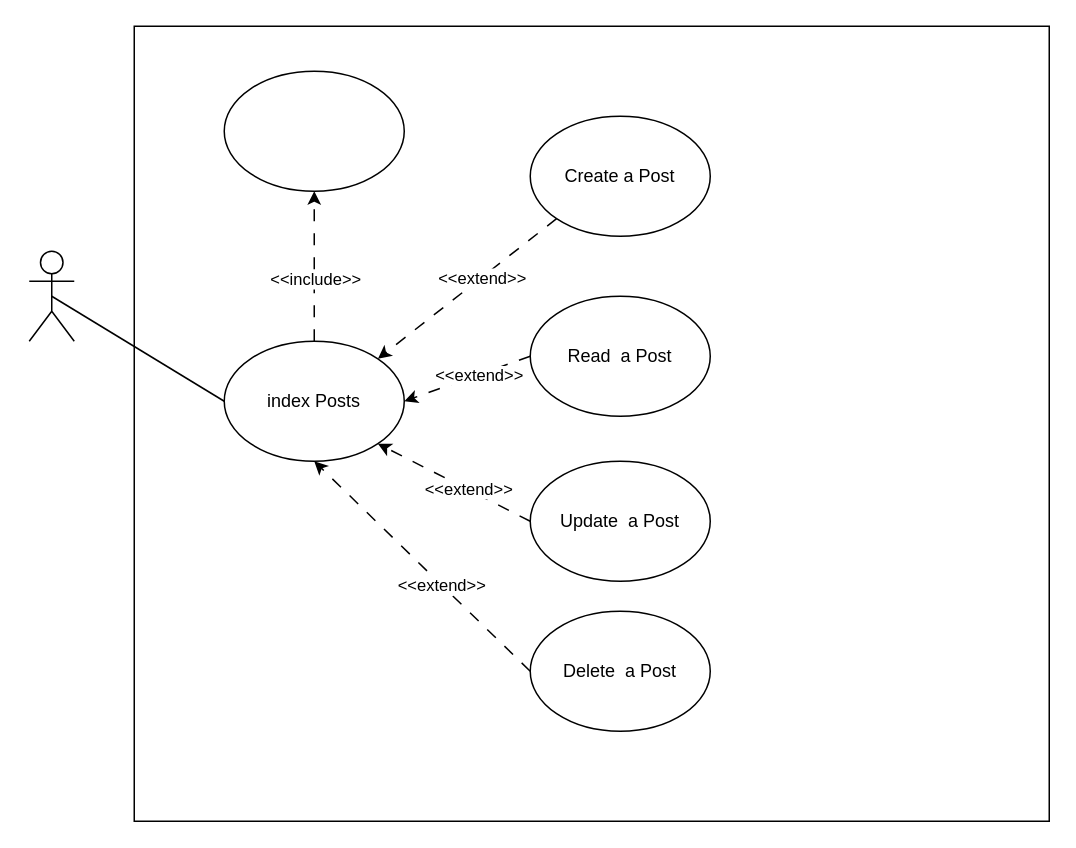
Some shapes in this 1076 by 848 pixel diagram are drawn without their labels. The shapes that lost their labels are listed below. From the top down, each one's centre as x and y in pixels, then its label:
(313,130): S'autentifier
(51,295): Admin
